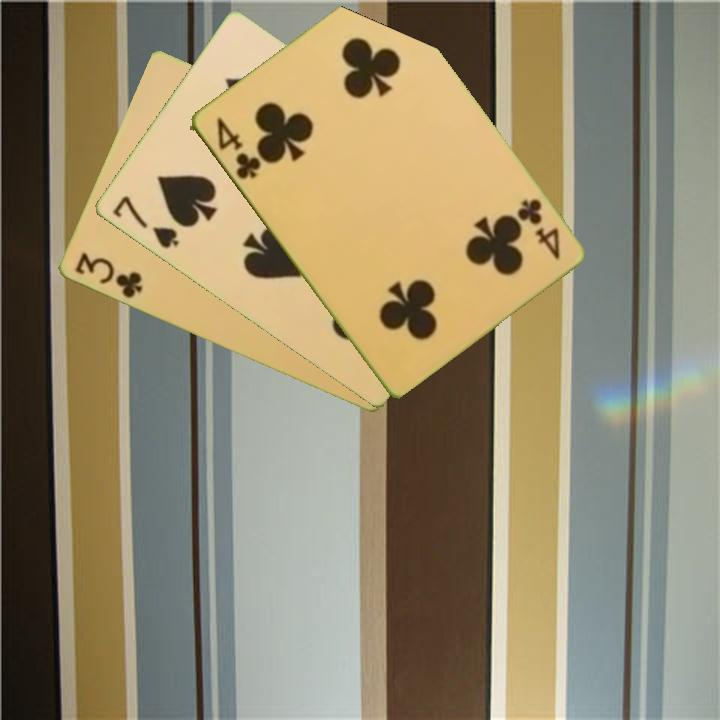3c: (70, 248, 145, 302)
4c: (212, 113, 263, 183), (512, 195, 563, 263)
7s: (108, 192, 181, 252)
